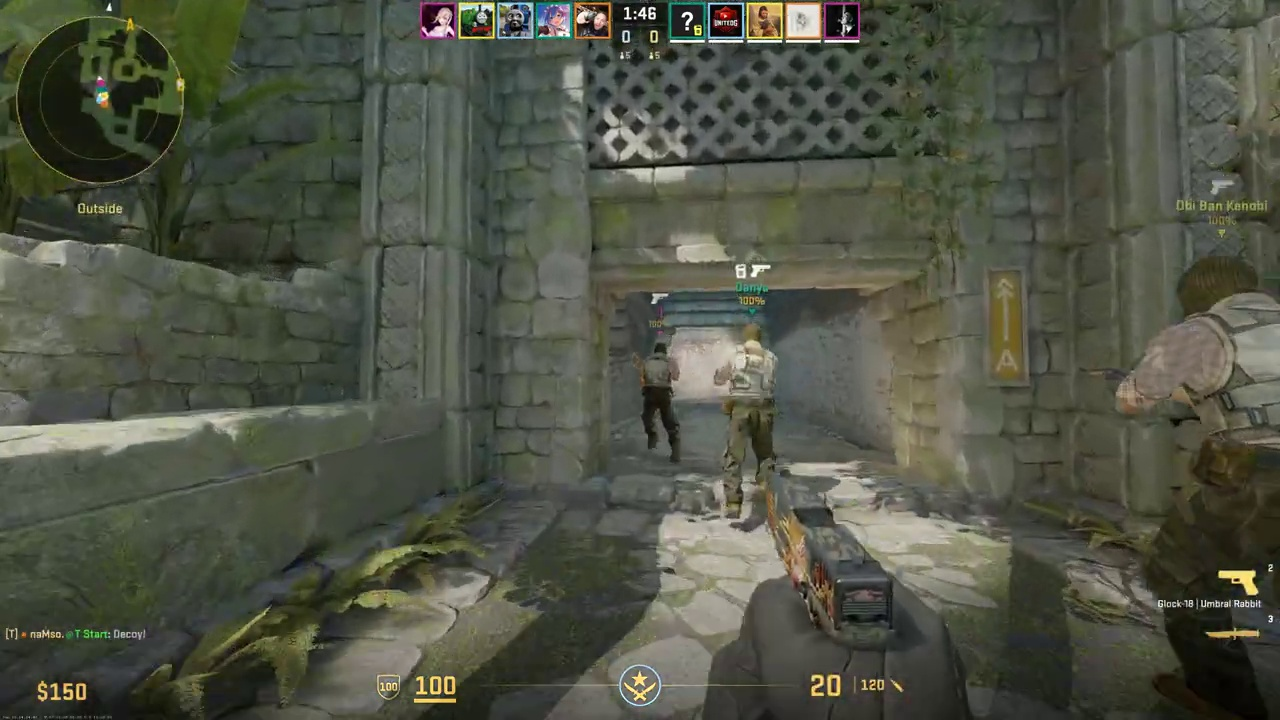Terrorist: (1124, 255, 1280, 716), (713, 326, 781, 519), (641, 343, 680, 457)
